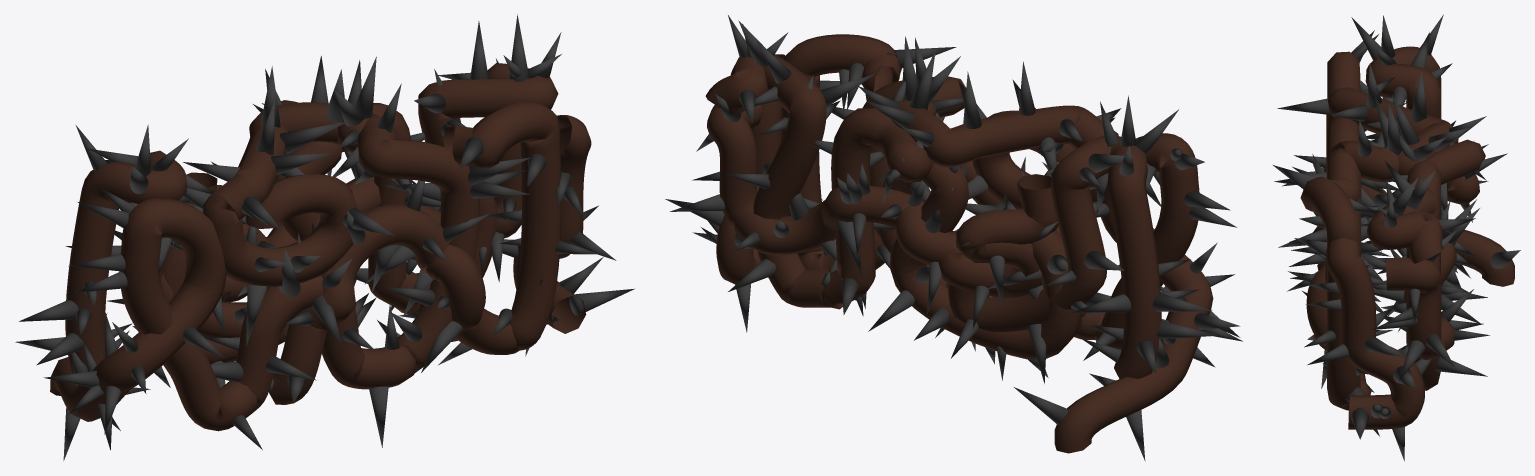
File: Thorn.fbx
The picture shows the model from 3 angles, left to right: view 1: azimuth 30°, elevation 25°; view 2: azimuth 150°, elevation 25°; view 3: azimuth 270°, elevation 25°; orthographic projection. The views are drawn at different scales.
Parts seen in each view (by area): view 1: BezierCurve; view 2: BezierCurve; view 3: BezierCurve.
Part boxes in pixels (x1,y1,x2,y2): BezierCurve: (15,14,634,460); BezierCurve: (665,15,1242,461); BezierCurve: (1273,14,1520,461).
Bounding box in the file's own units: 115 × 67.54 × 50.06.
